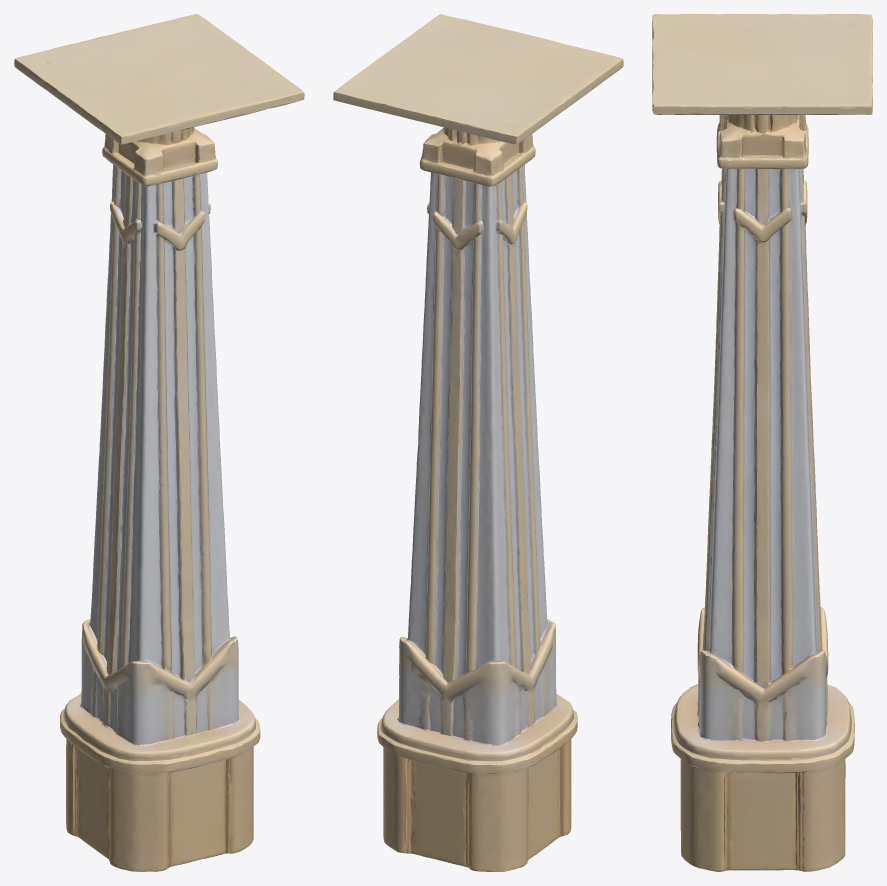
File: mast_deco.glb
The picture shows the model from 3 angles, left to right: view 1: azimuth 30°, elevation 25°; view 2: azimuth 150°, elevation 25°; view 3: azimuth 270°, elevation 25°; orthographic projection. The views are drawn at different scales.
Parts seen in each view (by area): view 1: Mesh; view 2: Mesh; view 3: Mesh.
Part boxes in pixels (x1,y1,x2,y2): Mesh: (14, 14, 304, 871); Mesh: (333, 14, 623, 871); Mesh: (652, 14, 872, 871).
Bounding box in the file's own units: 0.4824 × 1.9 × 0.4866.
Materials: 1 (1 with a texture image).
